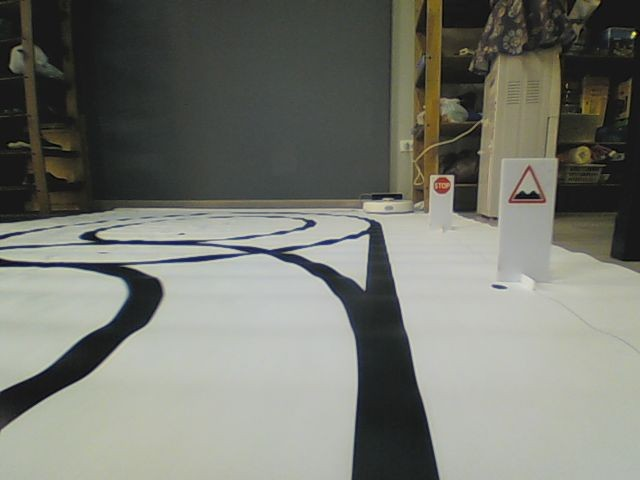Nerov: (508, 163, 547, 204)
Stop: (433, 176, 451, 194)
